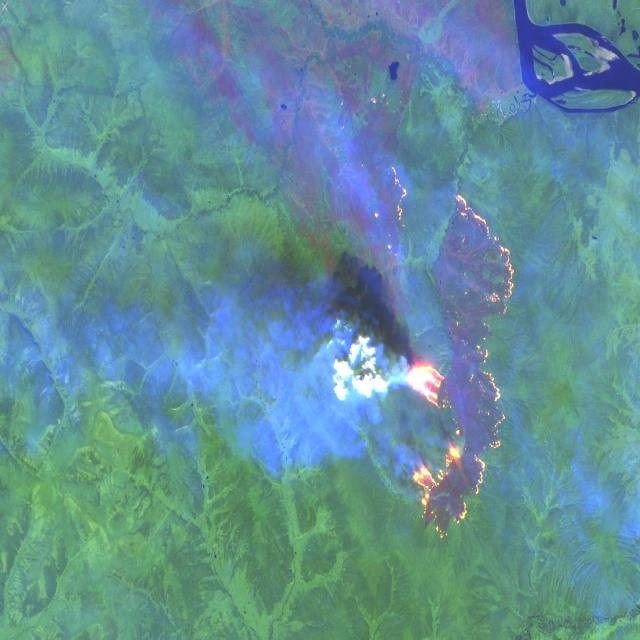fire: (377, 154, 522, 560)
